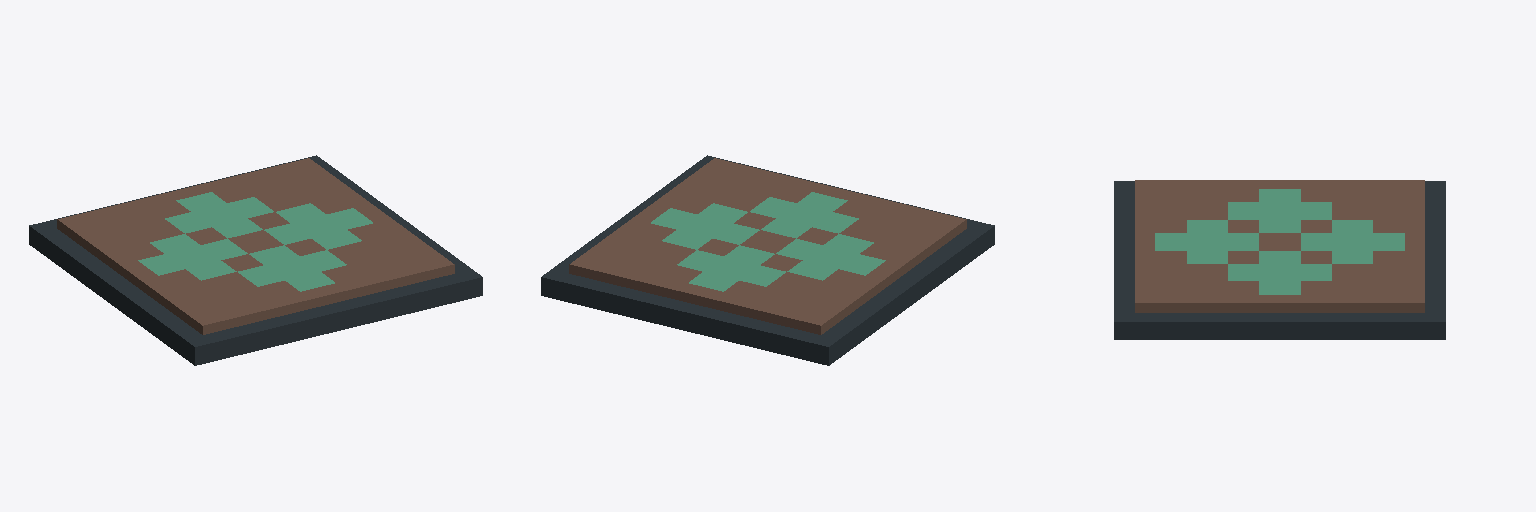
The picture shows the model from 3 angles: view 1: azimuth 30°, elevation 25°; view 2: azimuth 150°, elevation 25°; view 3: azimuth 270°, elevation 25°; orthographic projection.
Visible parts, largest first — view 1: 003_005_02; view 2: 003_005_02; view 3: 003_005_02.
Part boxes in pixels (x1,y1,x2,y2): 003_005_02: (29,155,482,365); 003_005_02: (541,155,994,365); 003_005_02: (1114,180,1445,339).
Bounding box in the file's own units: 32 × 3 × 32.
1 materials, 1 textured.